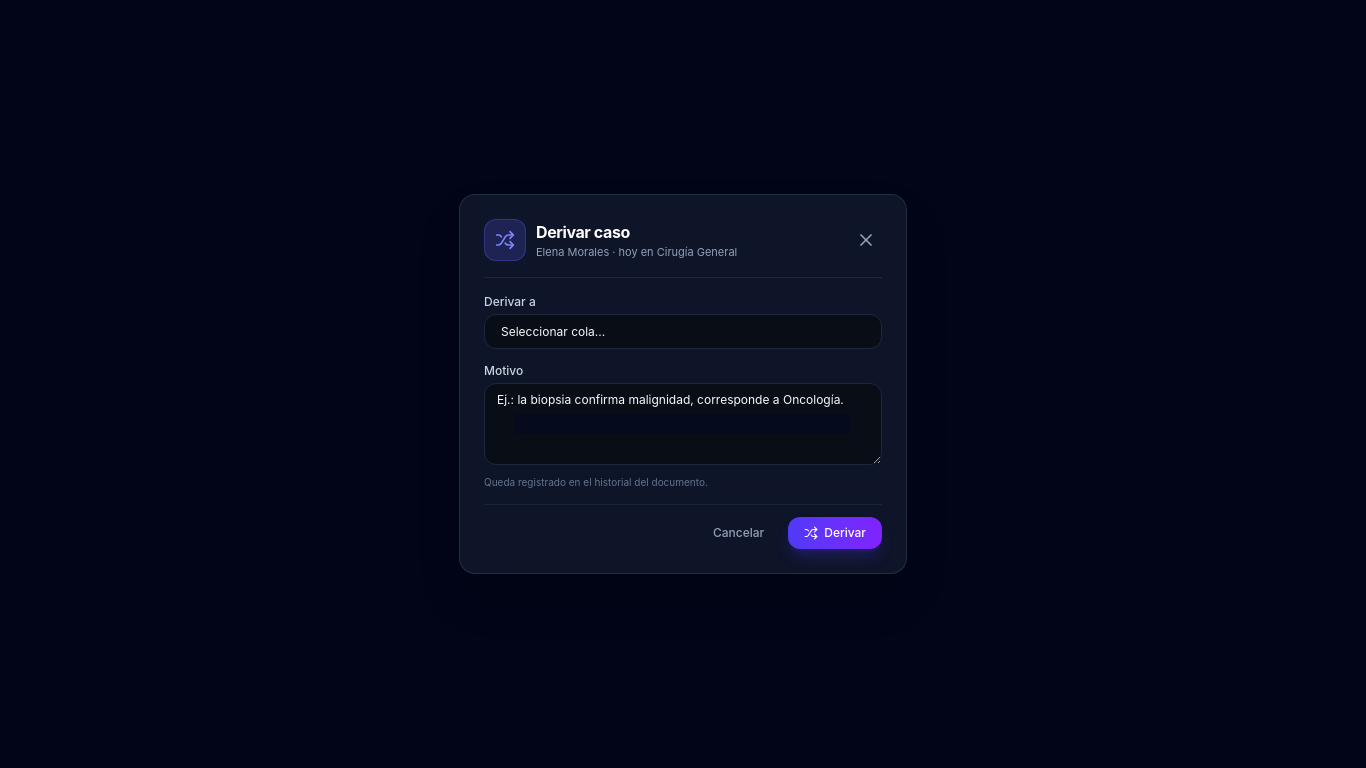
Test: DeriveCaseModal clinical derivation workflow › validates that motivo has at least 5 characters
Select "Oncología Médica" in the dropdown labelled "Derivar a" at (683, 332), box [484,314,882,349]
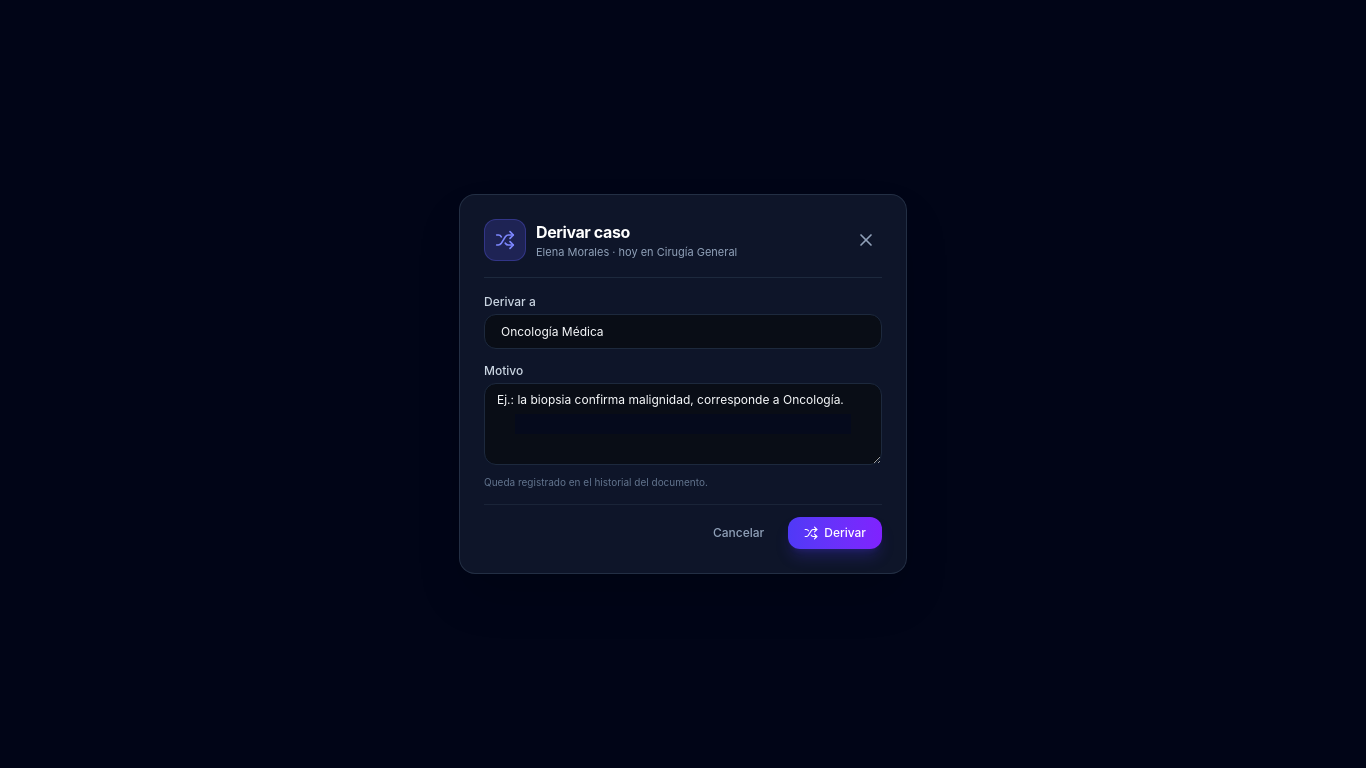
Replace the text in the text box labelled "Motivo" with "abc" at (683, 424), box [484,383,882,465]
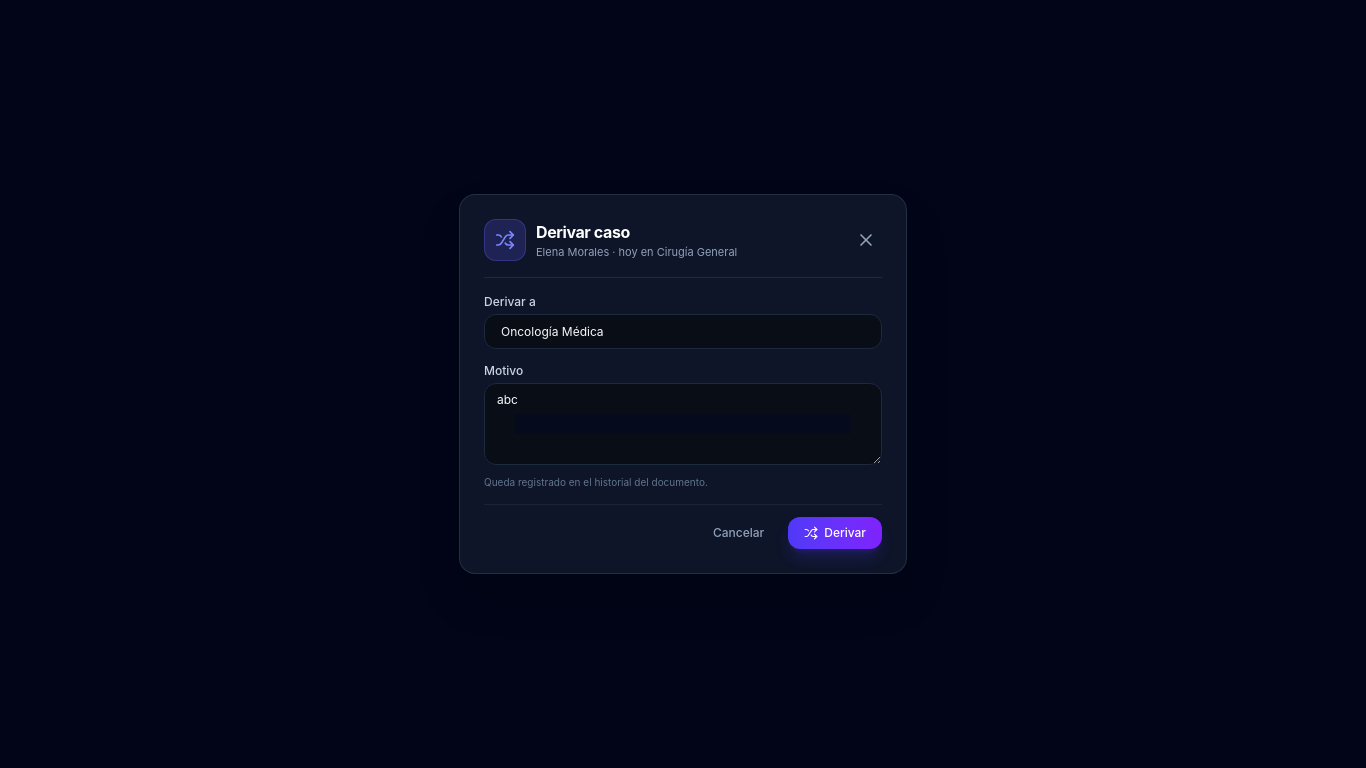
Submit the form "Derivar", box [484,294,882,549]
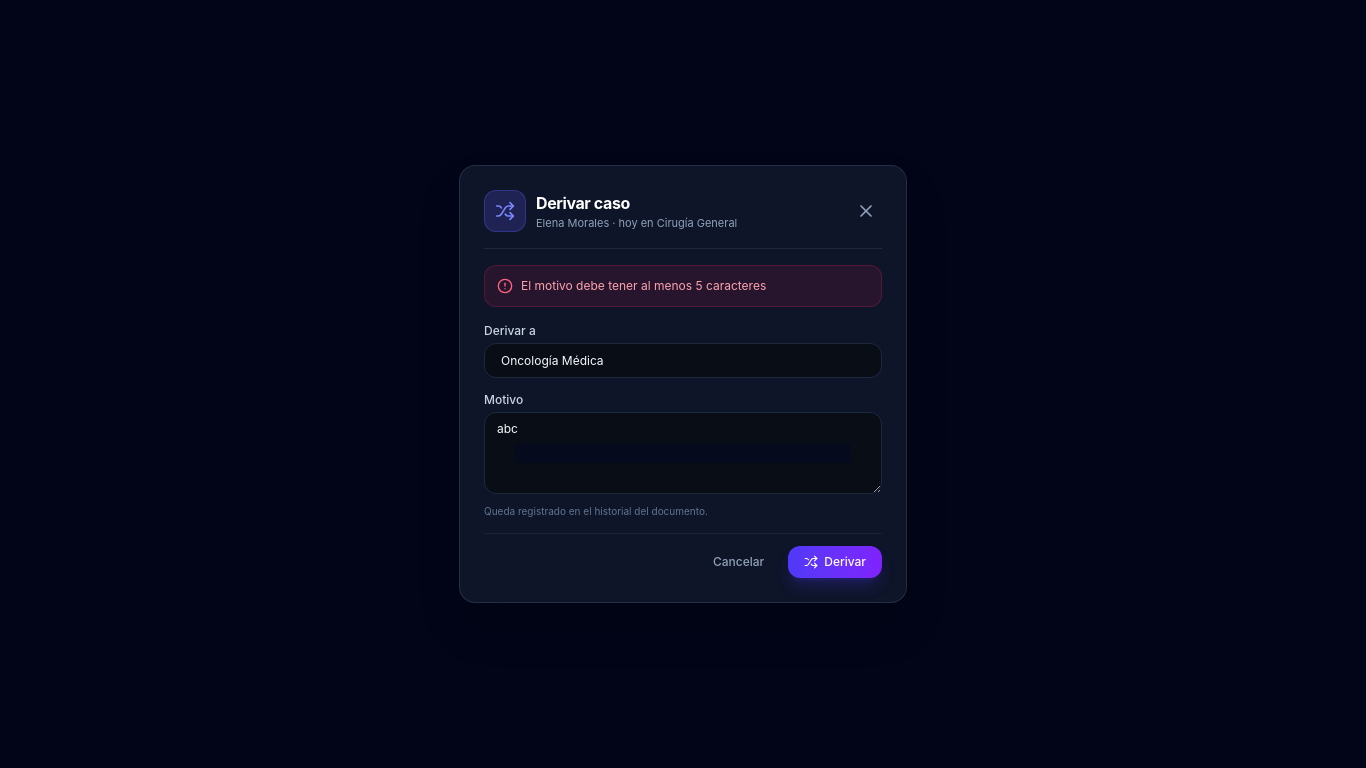
expect the text "El motivo debe tener al menos 5 caracteres" is shown: met, box [521,278,766,294]
